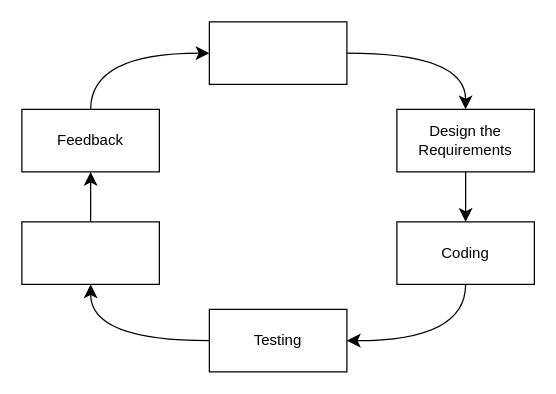
The diagram is 556 pixels wide and 394 high, and some of its shapes have lost their labels. Each missing label, with the box of its shape:
Deployment: (21, 221, 159, 284)
Requirements Gathering: (208, 21, 347, 84)
